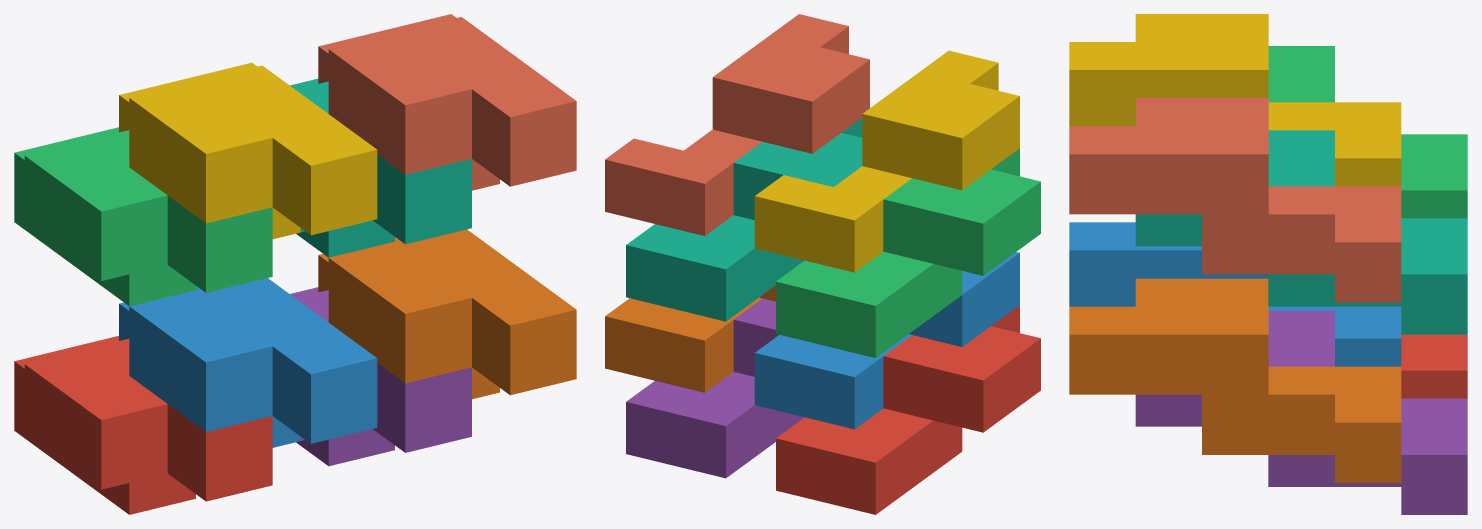
Rendered from tiling.obj.
The picture shows the model from 3 angles, left to right: view 1: azimuth 30°, elevation 25°; view 2: azimuth 150°, elevation 25°; view 3: azimuth 270°, elevation 25°; orthographic projection. The views are drawn at different scales.
Visible parts, largest first — view 1: copy_1_domain_4, copy_1_domain_8, copy_1_domain_2, copy_1_domain_6, copy_1_domain_3, copy_1_domain_1, copy_1_domain_5, copy_1_domain_7; view 2: copy_1_domain_4, copy_1_domain_8, copy_1_domain_3, copy_1_domain_1, copy_1_domain_7, copy_1_domain_2, copy_1_domain_5, copy_1_domain_6; view 3: copy_1_domain_8, copy_1_domain_6, copy_1_domain_4, copy_1_domain_7, copy_1_domain_5, copy_1_domain_2, copy_1_domain_3, copy_1_domain_1.
Boxes of the visible parts, <box> form: copy_1_domain_4: <box>119,62,377,239</box>; copy_1_domain_8: <box>318,14,576,190</box>; copy_1_domain_2: <box>119,278,377,447</box>; copy_1_domain_6: <box>318,229,576,399</box>; copy_1_domain_3: <box>14,127,272,306</box>; copy_1_domain_1: <box>14,336,272,514</box>; copy_1_domain_5: <box>290,287,471,466</box>; copy_1_domain_7: <box>290,78,471,257</box>; copy_1_domain_4: <box>754,50,1019,272</box>; copy_1_domain_8: <box>605,14,869,235</box>; copy_1_domain_3: <box>776,148,1040,358</box>; copy_1_domain_1: <box>776,305,1040,514</box>; copy_1_domain_7: <box>626,118,862,321</box>; copy_1_domain_2: <box>754,252,1019,429</box>; copy_1_domain_5: <box>626,298,804,478</box>; copy_1_domain_6: <box>605,285,775,392</box>; copy_1_domain_8: <box>1069,98,1401,302</box>; copy_1_domain_6: <box>1069,278,1401,482</box>; copy_1_domain_4: <box>1069,14,1401,186</box>; copy_1_domain_7: <box>1135,130,1467,334</box>; copy_1_domain_5: <box>1135,310,1467,514</box>; copy_1_domain_2: <box>1069,222,1401,366</box>; copy_1_domain_3: <box>1268,46,1467,218</box>; copy_1_domain_1: <box>1401,334,1467,398</box>.
Bounding box in the file's own units: 7 × 6 × 6.
